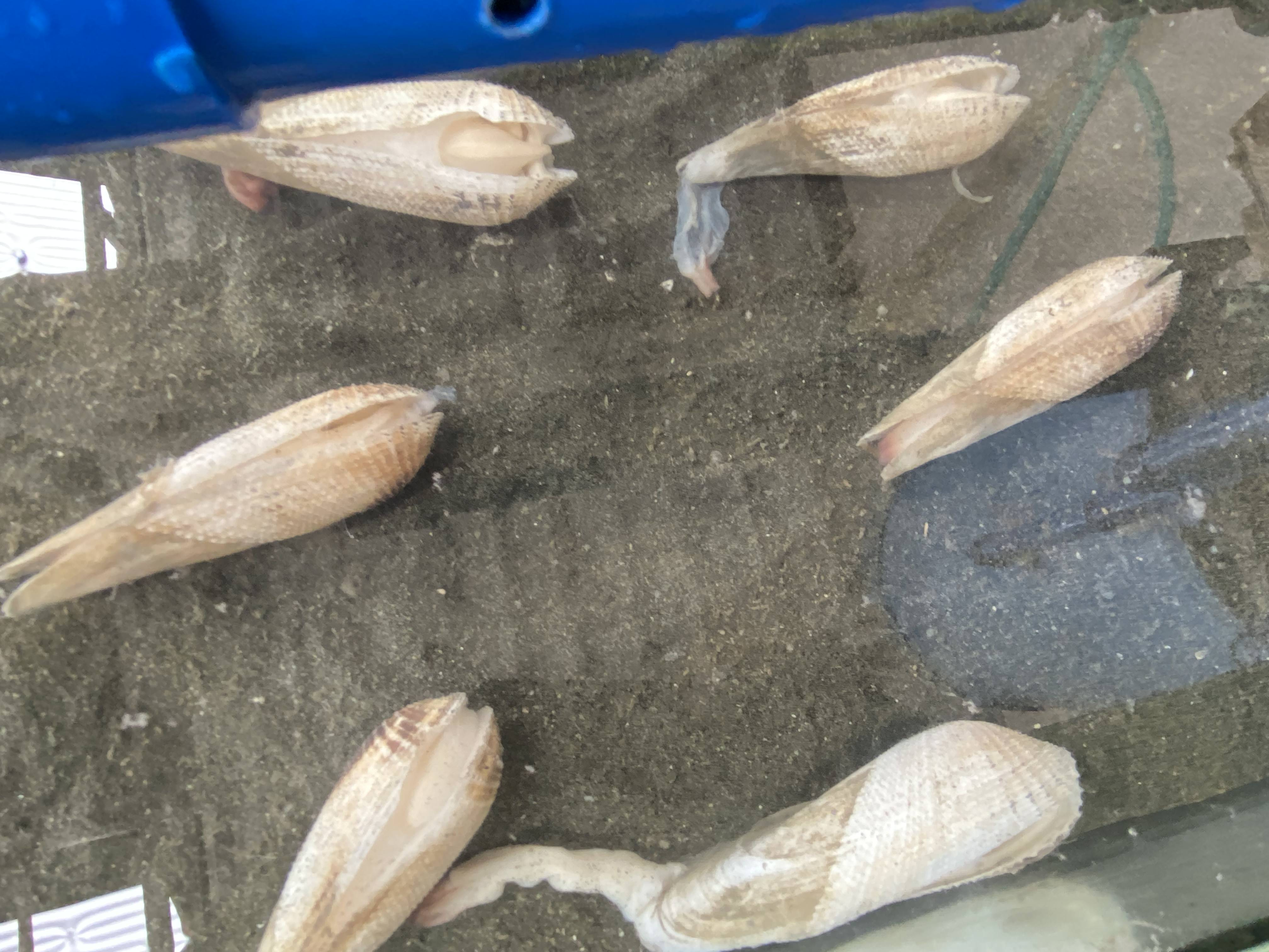At risk: (259, 694, 1081, 952), (0, 383, 454, 616), (673, 55, 1029, 295), (859, 256, 1182, 479), (163, 81, 576, 225)
